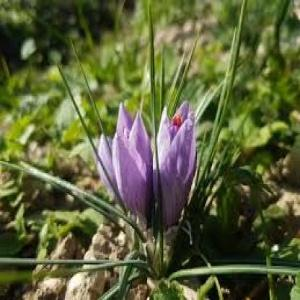Saffron: (97, 103, 155, 232), (151, 101, 196, 236)
